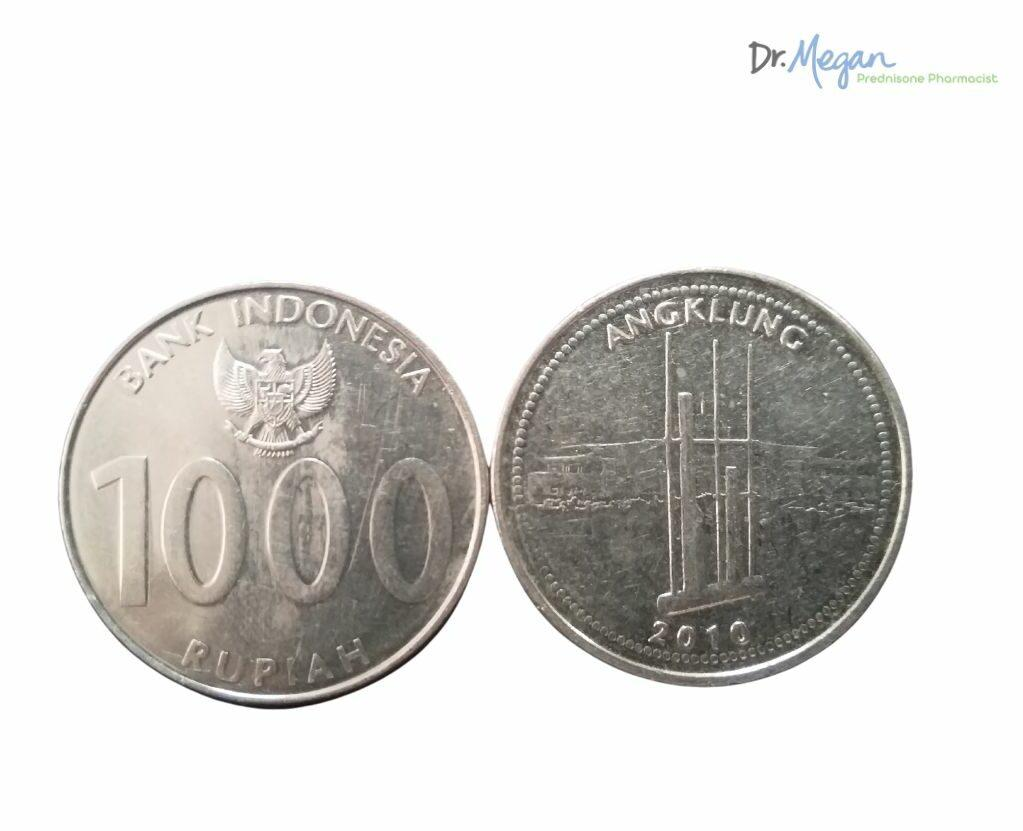coin_1000_e2010: (53, 277, 491, 719), (494, 269, 915, 689)
